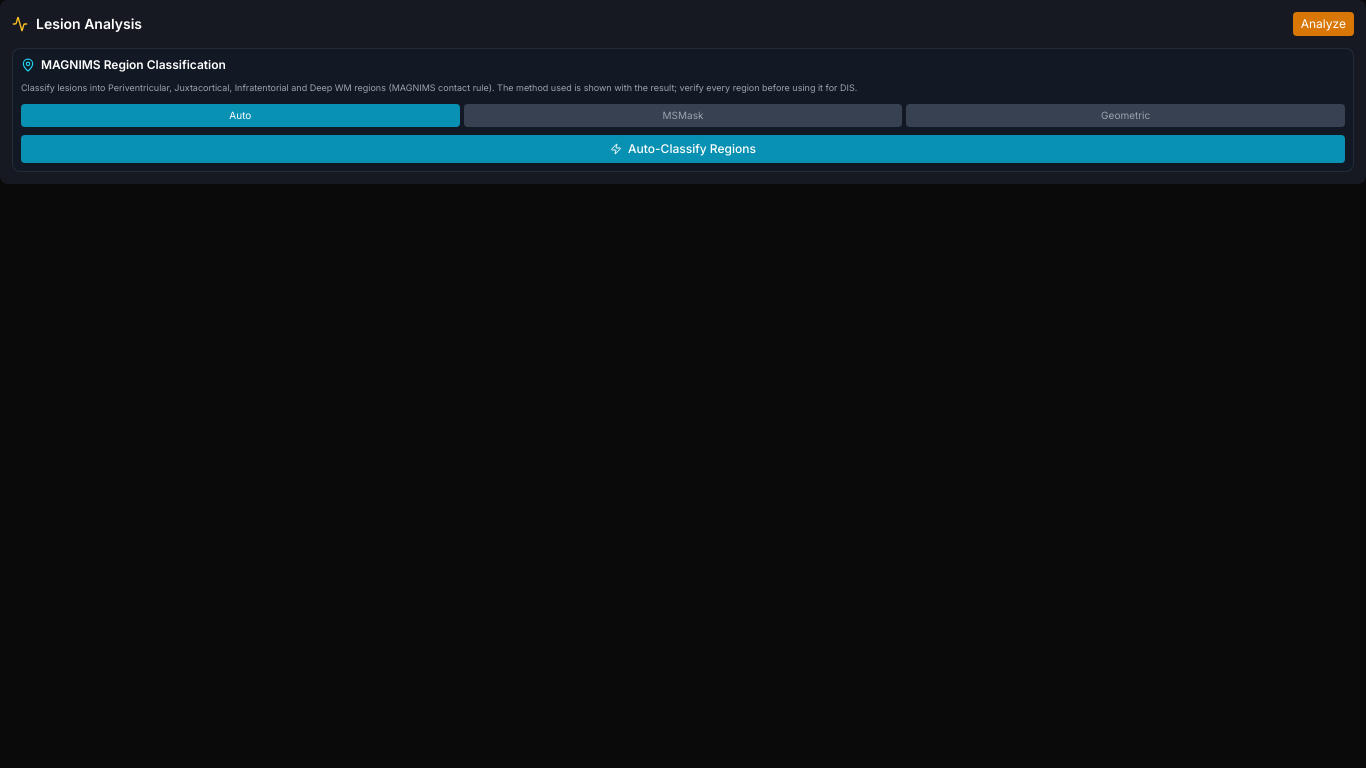
Test: blocker 1 / findings 7-8: the DIS card › rc071 review1 regions not classified: the card asks for the classification and offers no confirmation
Click the button "Analyze" at (1323, 24), box [1293,12,1354,36]
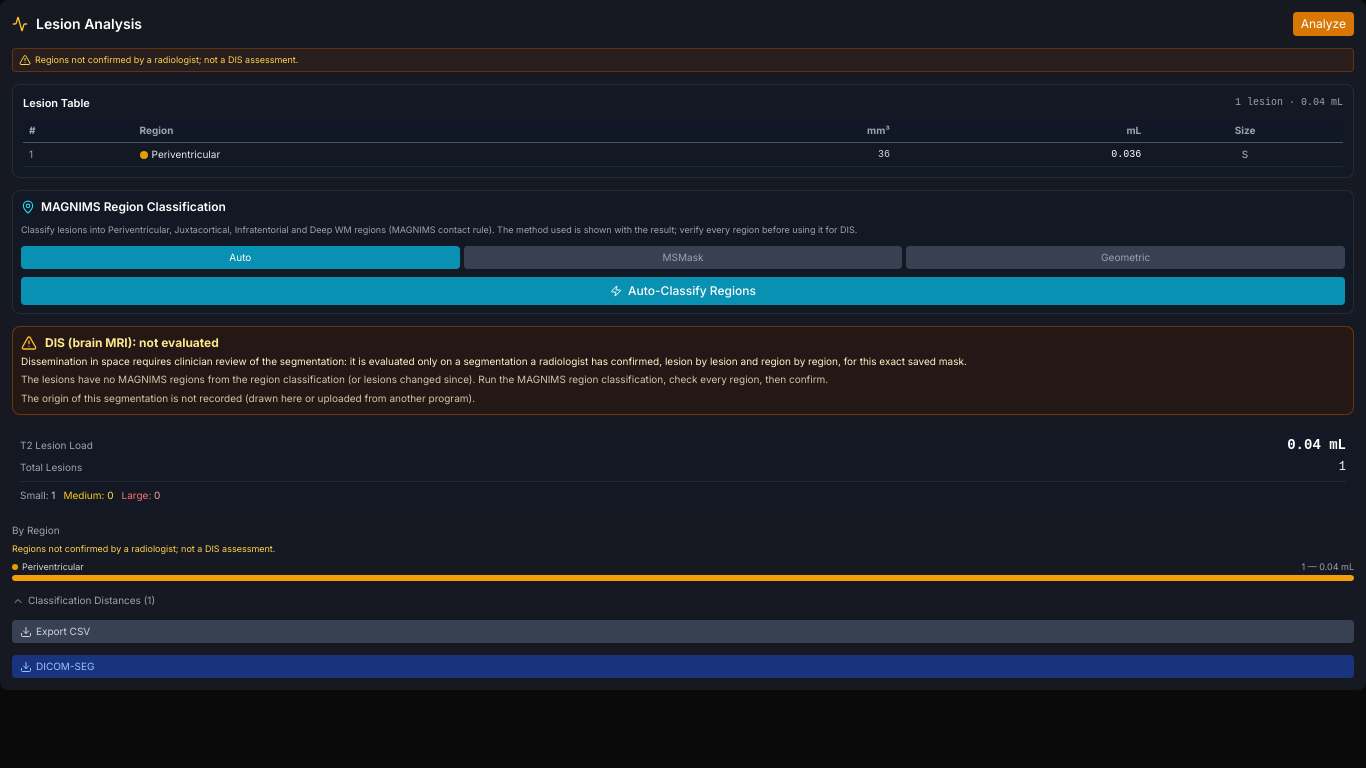
Check: the message with test id "dis-not-evaluated" shows "Run the MAGNIMS region classification", box [21,373,828,385]
